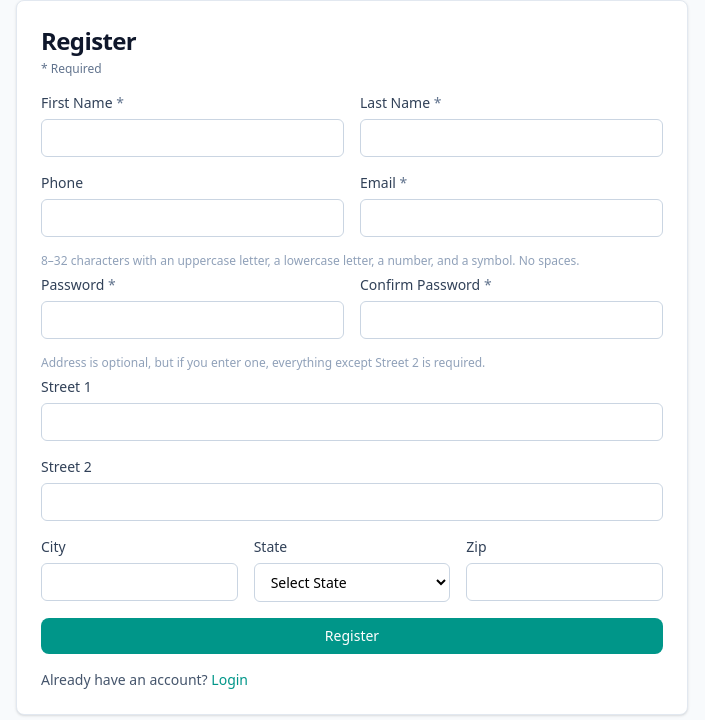
Register › never reaches the network when the form itself is invalid
Step 1. Type "Ada" into the field labelled "First Name *" → (192, 138), box [41,119,344,157]
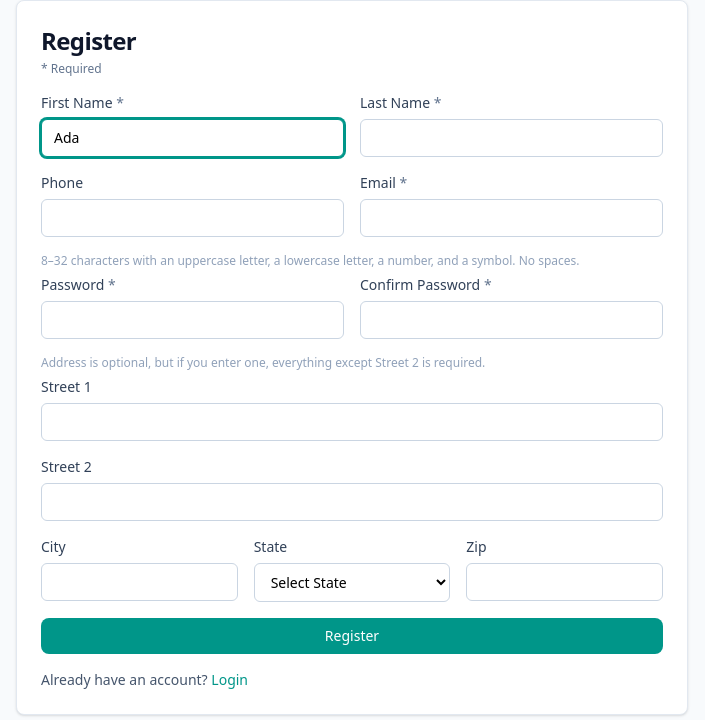
Step 2. Click the button "Register" → click(352, 636), box [41,618,663,654]
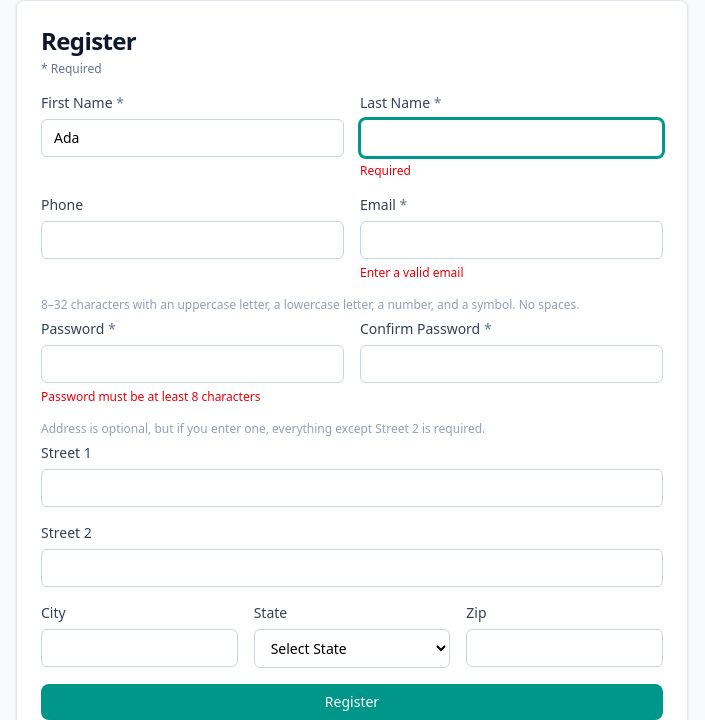
Check: the text "Enter a valid email" is shown, box [360,264,464,281]
